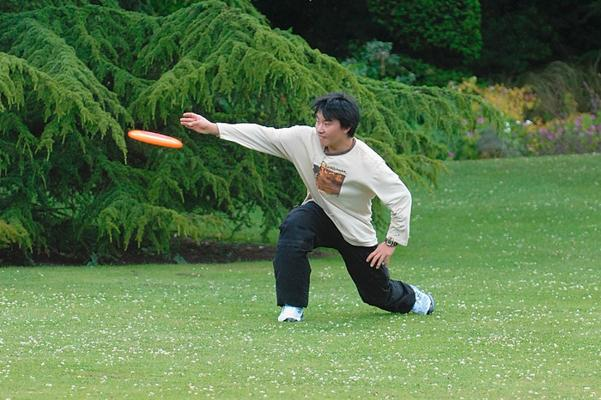person: (179, 96, 436, 322)
